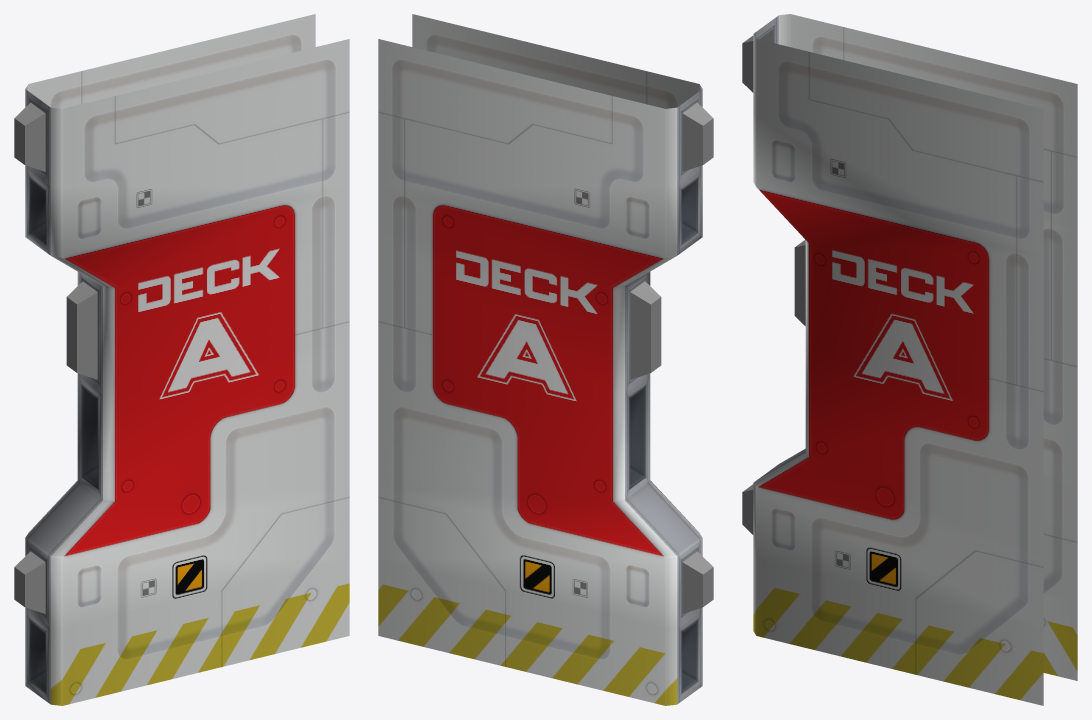
The model's file is Blast_Door_right.fbx.
The picture shows the model from 3 angles, left to right: view 1: azimuth 30°, elevation 25°; view 2: azimuth 150°, elevation 25°; view 3: azimuth 330°, elevation 25°; orthographic projection.
Visible parts, largest first — view 1: Blast_Door_right; view 2: Blast_Door_right; view 3: Blast_Door_right.
Part boxes in pixels (x1=…): Blast_Door_right: x1=14, y1=14, x2=349, y2=705; Blast_Door_right: x1=378, y1=14, x2=713, y2=705; Blast_Door_right: x1=742, y1=14, x2=1077, y2=705.
Bounding box in the file's own units: 170 × 310 × 32.
2 materials, 1 textured.
